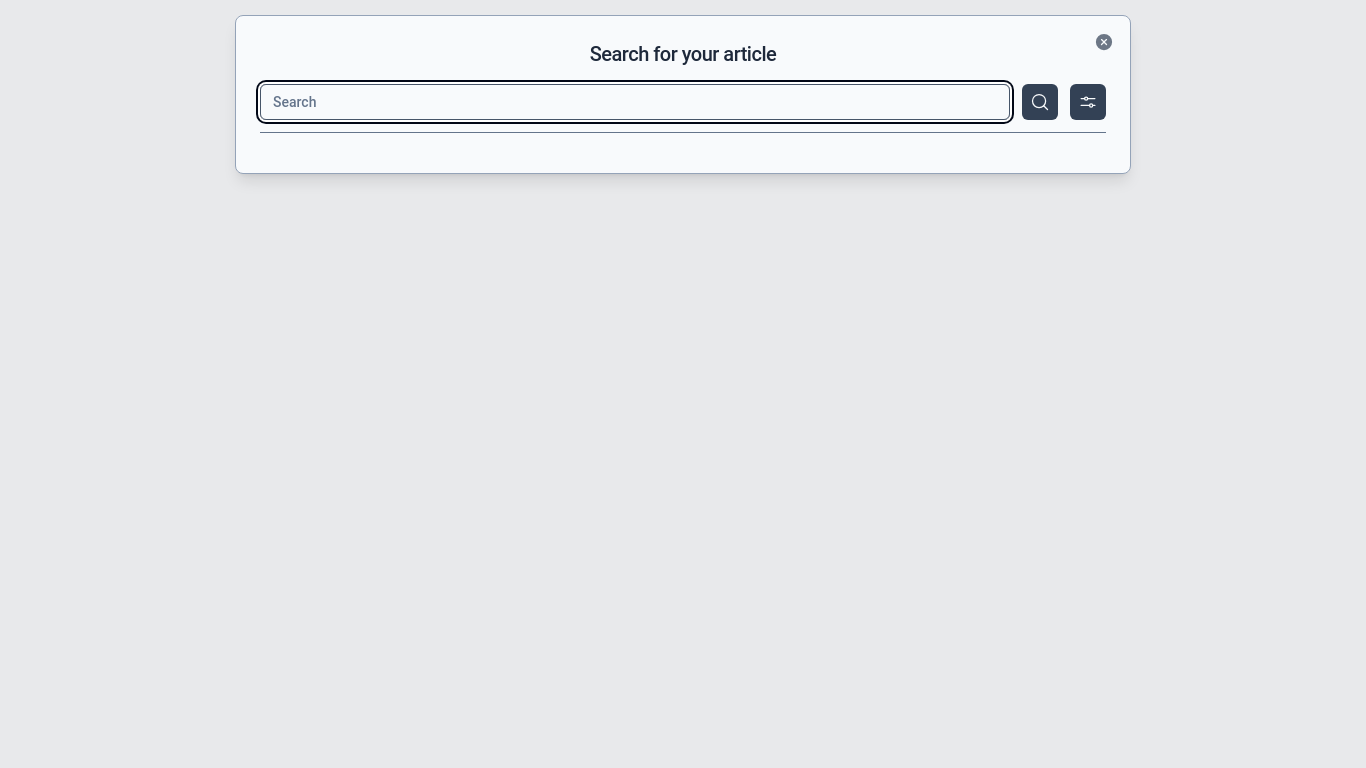
Test: Modal Search › displays articles when the search is successful
Type "test" into the field with placeholder "Search". click: (635, 102)
box: [260, 84, 1010, 120]
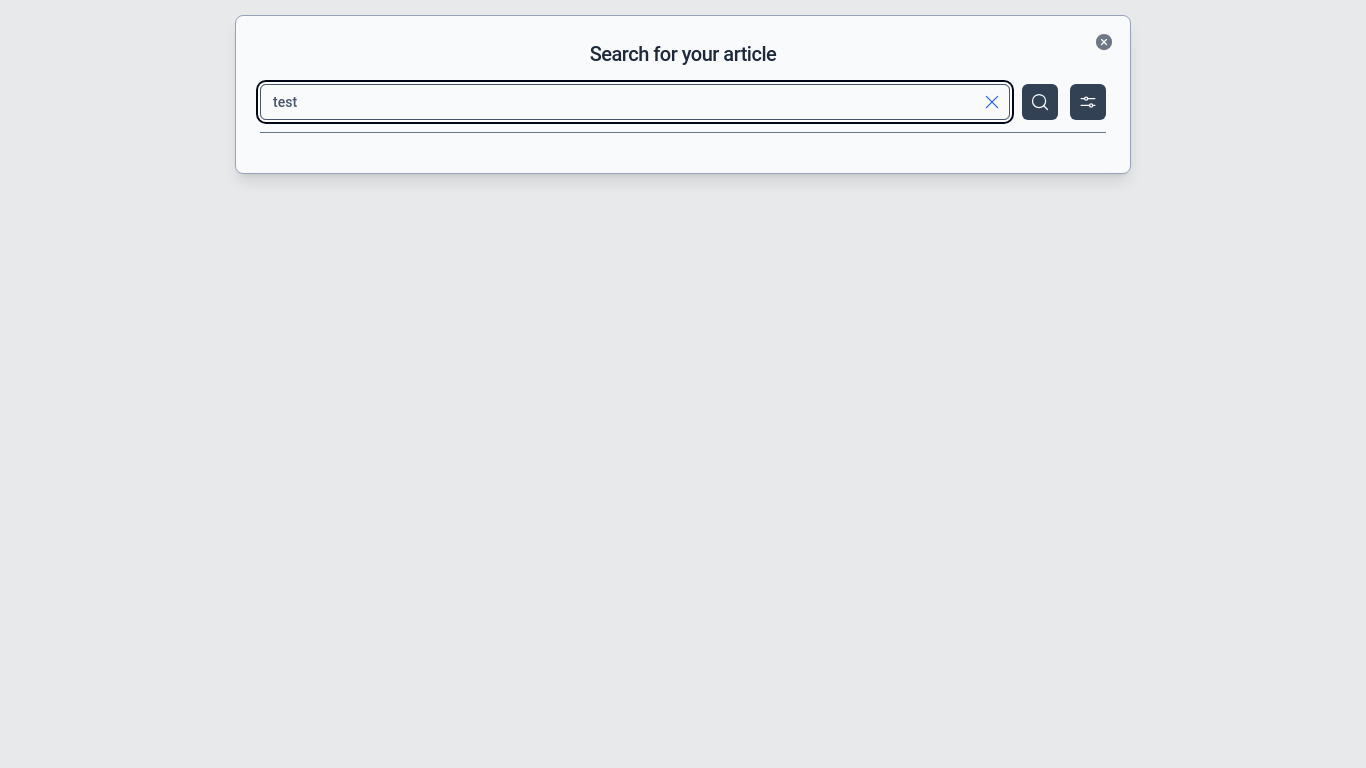
Click the button with test id "submit_btn". click: (1040, 102)
box: [1022, 84, 1058, 120]
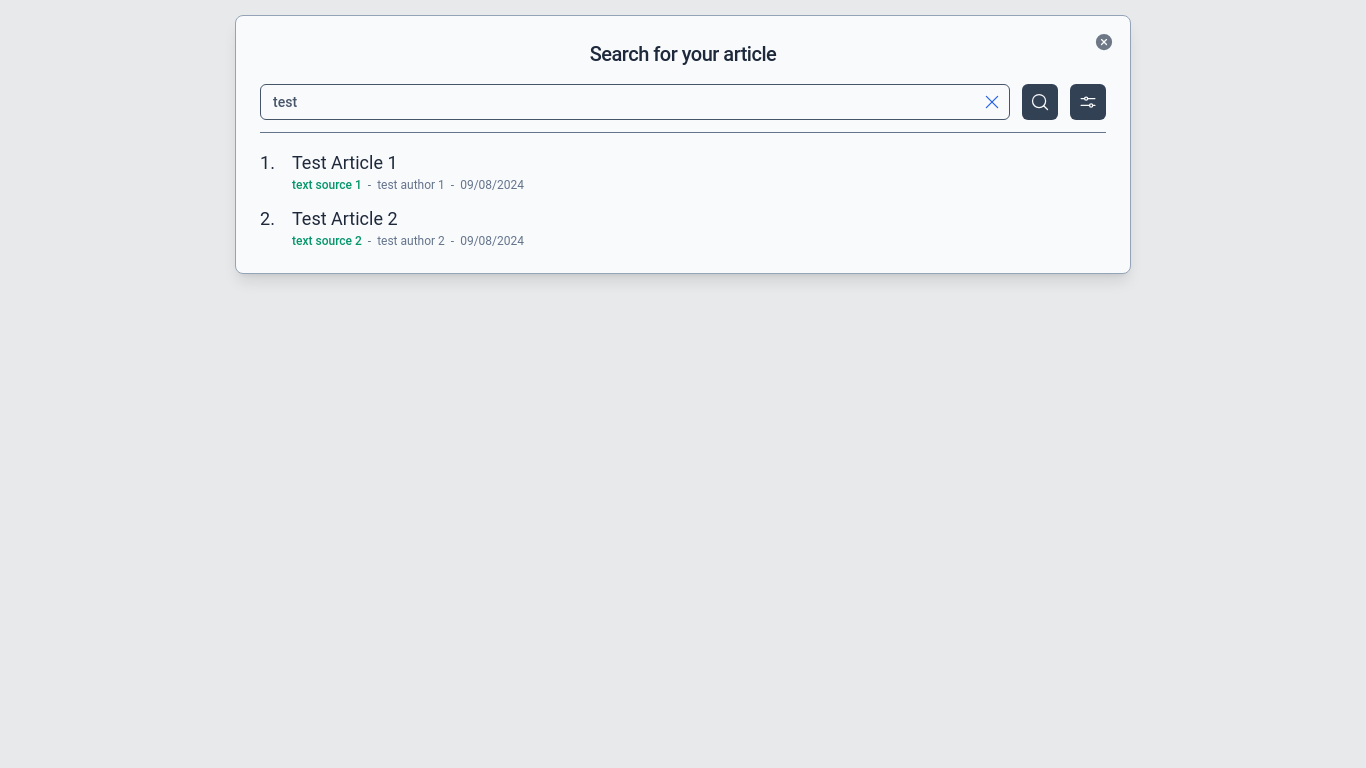
Result: the heading "Test Article 1" is shown at [292, 152, 398, 173]
